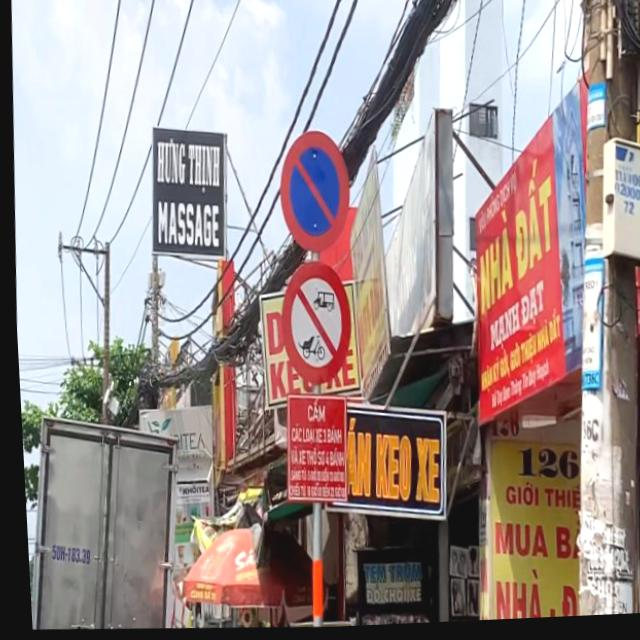Cam do xe: (273, 131, 352, 260)
